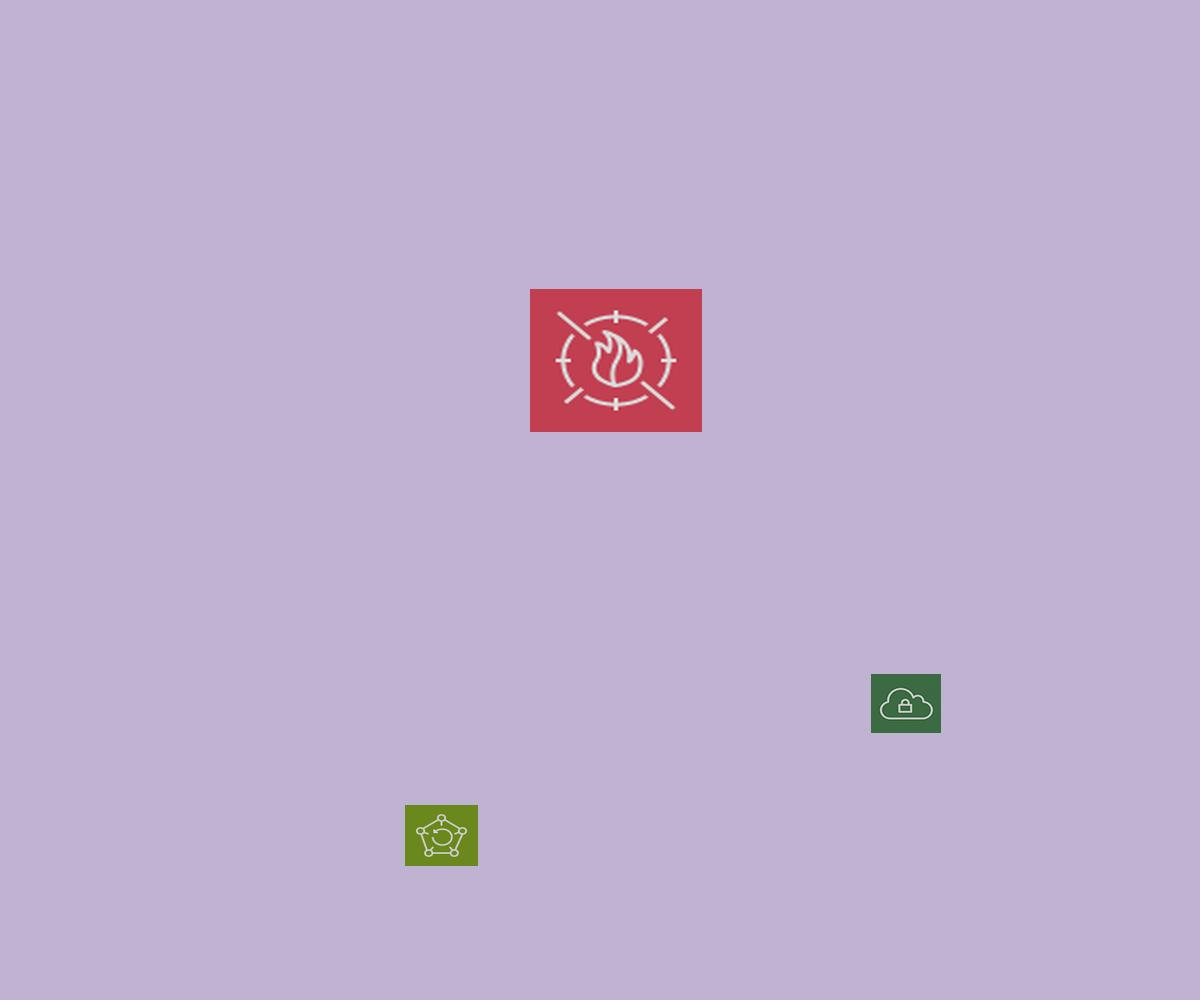AWS-Backup: (405, 805, 478, 866)
AWS-Private_vpc: (871, 674, 941, 733)
AWS-WAF: (530, 289, 702, 432)
